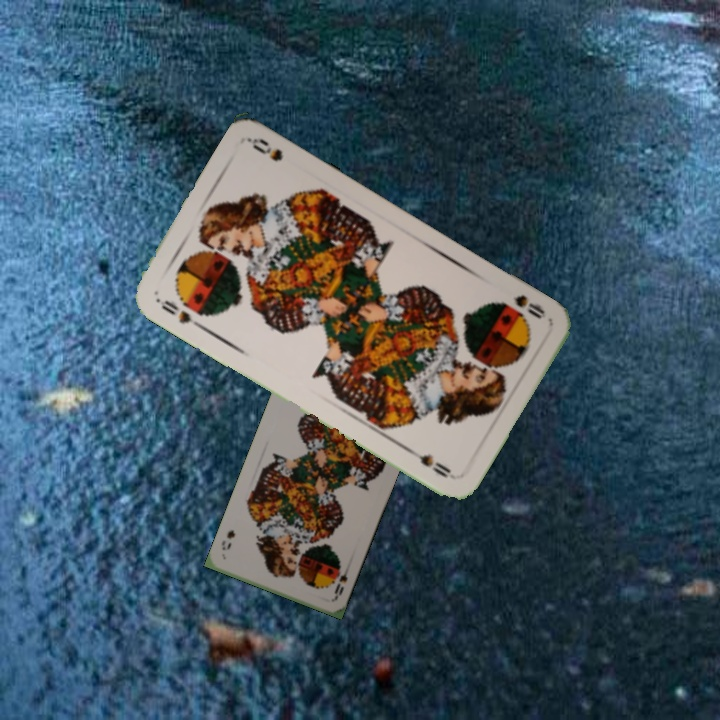SO: (157, 296, 206, 332), (508, 290, 549, 322), (330, 561, 352, 601)
